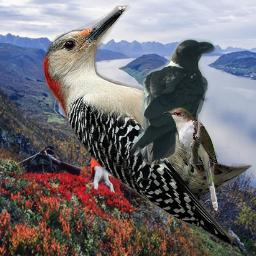Crow: (130, 38, 218, 165)
Cuckoo: (162, 107, 218, 212)
Woodpecker: (41, 5, 252, 248)
